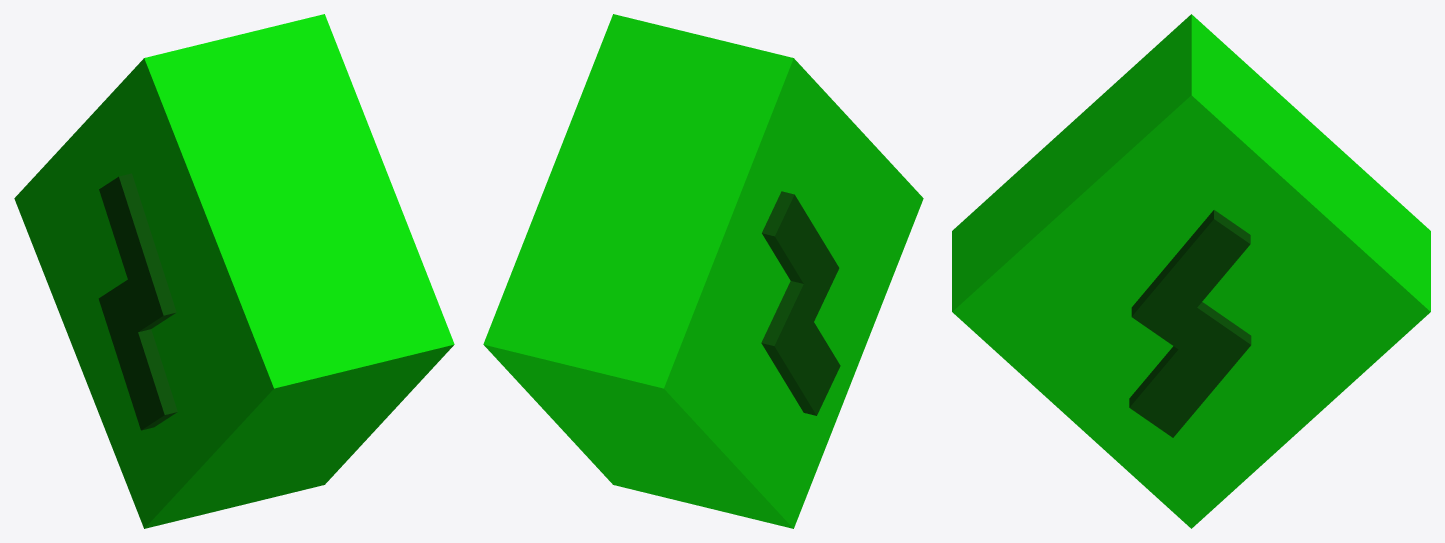
File: Buffer.fbx
The picture shows the model from 3 angles, left to right: view 1: azimuth 30°, elevation 25°; view 2: azimuth 150°, elevation 25°; view 3: azimuth 270°, elevation 25°; orthographic projection. The views are drawn at different scales.
Visible parts, largest first — view 1: Cube.003; view 2: Cube.003; view 3: Cube.003.
Part boxes in pixels (bbox=[...]): Cube.003: bbox=[14, 14, 454, 528]; Cube.003: bbox=[483, 14, 923, 528]; Cube.003: bbox=[952, 14, 1430, 528].
Bounding box in the file's own units: 31.2 × 65.43 × 65.43.
